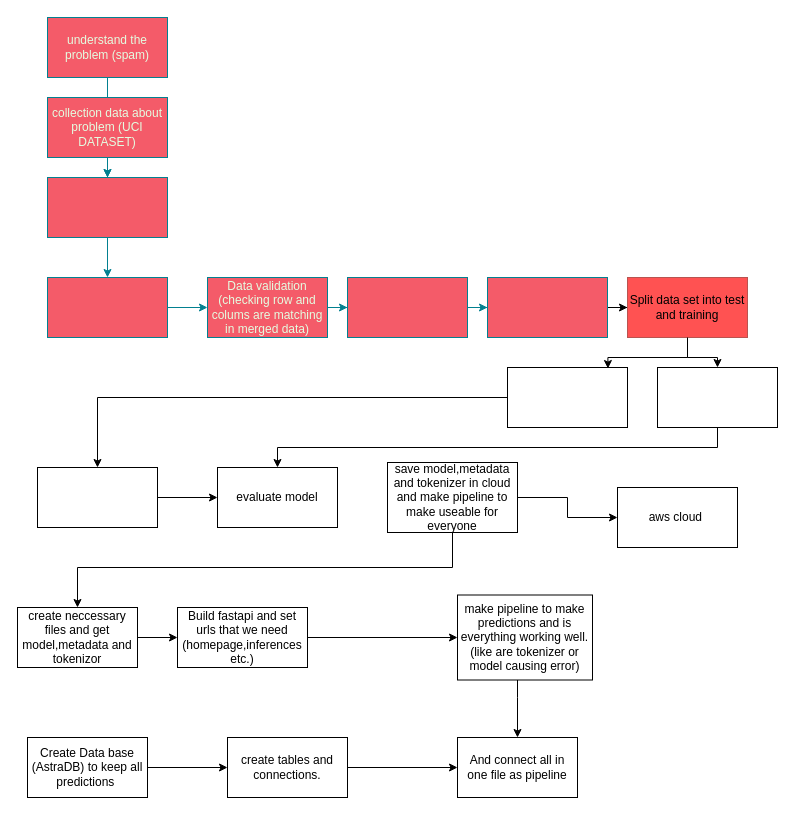
This 795x815 diagram has some shape labels left out. Each missing label, with the box of its shape:
clean datasets from unnecessary columns and rows.: (46, 276, 168, 338)
EDA: (346, 276, 468, 338)
model train: (36, 466, 158, 528)
taking data and make it able to work on (unzip, merge etc.): (46, 176, 168, 238)
test: (506, 366, 628, 428)
train: (656, 366, 778, 428)
Vectorize data to work with neural networks: (486, 276, 608, 338)
